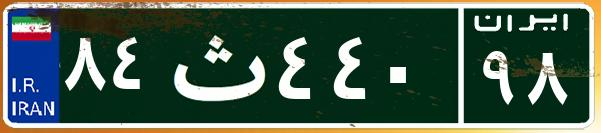0: (385, 28, 445, 110)
4: (273, 28, 330, 110), (330, 28, 385, 110), (110, 28, 158, 105)
8: (57, 26, 110, 107), (525, 38, 570, 115)
9: (475, 38, 525, 113)
ث: (158, 15, 273, 115)
